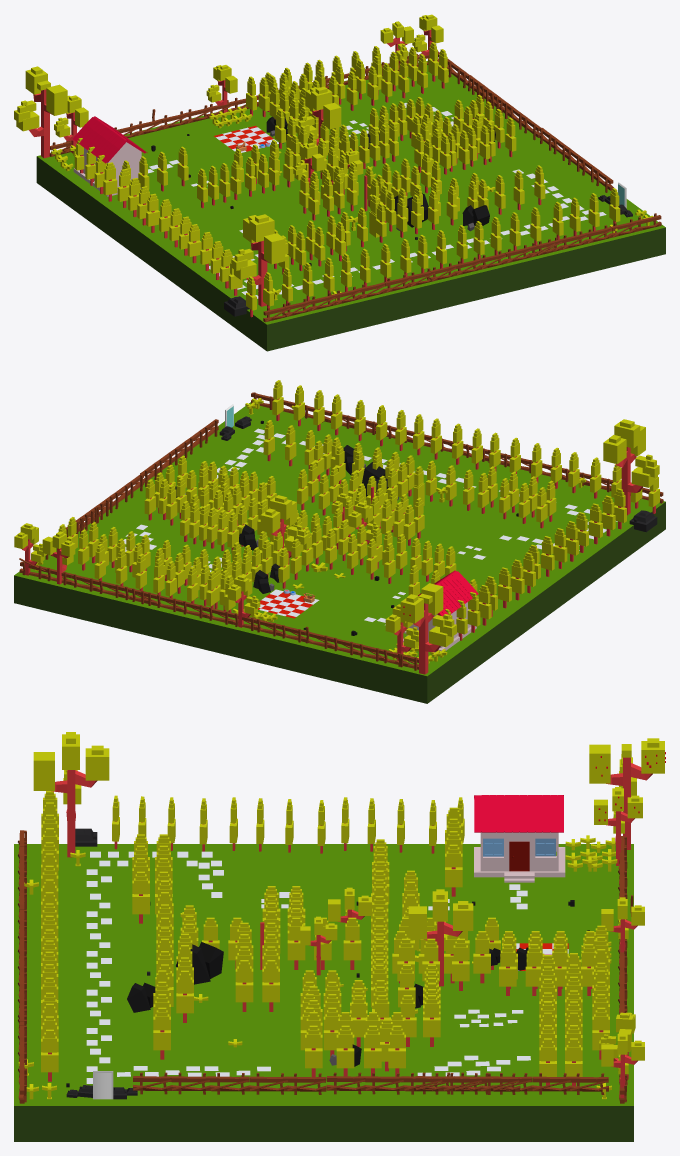
The model's file is world.glb.
The picture shows the model from 3 angles, top to bottom: view 1: azimuth 30°, elevation 25°; view 2: azimuth 150°, elevation 25°; view 3: azimuth 270°, elevation 25°; orthographic projection. The views are drawn at different scales.
Visible parts, largest first — view 1: chao, Telhado, Plano.002, Plano.001, Estrutura casa, arv2.099, arv2.015, arv2.102, arv2.012; view 2: chao, Plano.002, Plano.001, Telhado, arv2.099, arv2.012, arv2.100, arv2.013, arv2.102; view 3: chao, Plano.002, Telhado, Estrutura casa, arv2.012, arv2.099, arv2.102, arv2.015, arv2.013, arv2.100, Porta, arv2.004 (+2 smaller).
Boxes of the visible parts, x1,y1,x2,y2 form: chao: (36, 61, 665, 351); Telhado: (72, 116, 147, 163); Plano.002: (191, 103, 606, 298); Plano.001: (148, 125, 278, 173); Estrutura casa: (73, 142, 141, 196); arv2.099: (29, 89, 52, 158); arv2.015: (264, 233, 285, 264); arv2.102: (46, 84, 67, 115); arv2.012: (246, 240, 269, 306); chao: (14, 402, 665, 703); Plano.002: (123, 428, 617, 598); Plano.001: (258, 589, 385, 625); Telhado: (418, 570, 478, 616); arv2.099: (413, 603, 440, 674); arv2.012: (616, 447, 642, 515); arv2.100: (400, 597, 423, 623); arv2.013: (603, 438, 626, 464); arv2.102: (421, 583, 443, 615); chao: (14, 844, 633, 1141); Plano.002: (86, 851, 530, 1083); Telhado: (474, 795, 563, 832); Estrutura casa: (474, 832, 565, 882); arv2.012: (51, 770, 97, 857); arv2.099: (606, 757, 652, 849); arv2.102: (589, 744, 610, 783); arv2.015: (33, 752, 54, 790); arv2.013: (85, 748, 109, 780); arv2.100: (641, 741, 664, 773); Porta: (509, 841, 529, 871); arv2.004: (408, 906, 426, 939).
Size of the model in its own units: 126 by 32.91 by 125.
